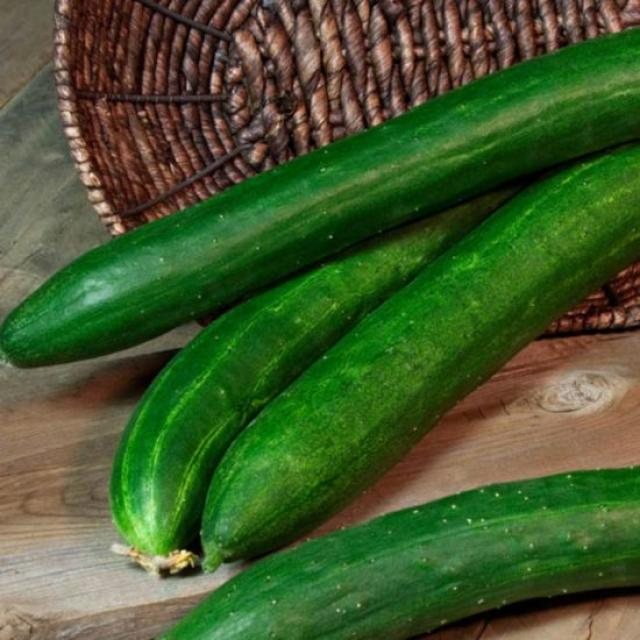Pickle: (1, 29, 640, 366), (201, 144, 640, 569), (110, 187, 514, 553), (157, 467, 640, 639)
